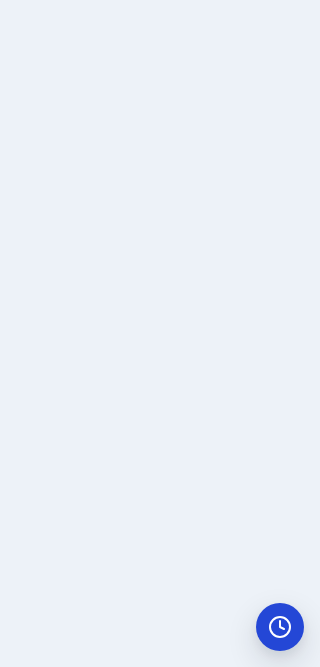
Scenario: TimeTravelPanel › opens a calendar on the current month for any user
Click the button named "Viagem no tempo" at (280, 627), box [256,603,304,651]
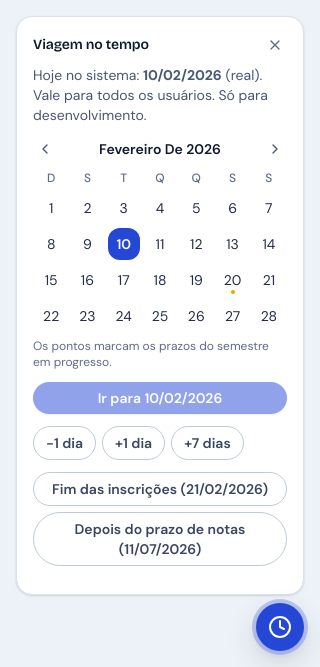
Result: the element "Viagem no tempo" is shown
Result: the text "fevereiro de 2026" is shown at [99,139,221,159]
Result: the button named "10 de fevereiro de 2026, dia atual do sistema" is shown at [108,228,140,260]
